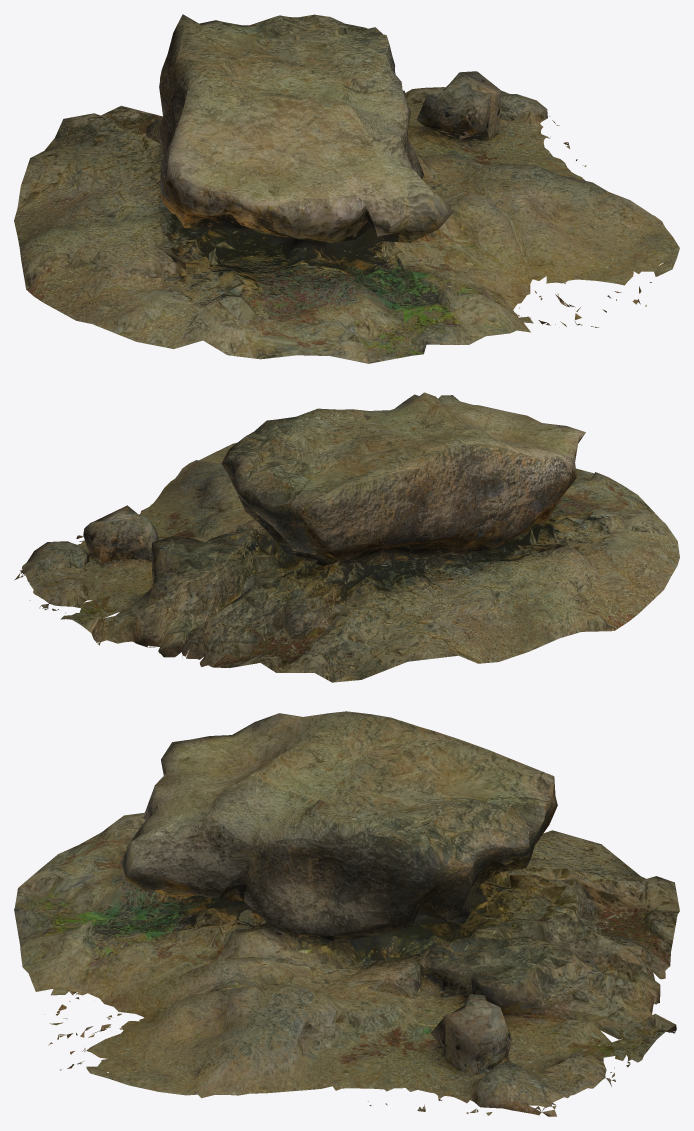
File: scan_rock_coast.glb
The picture shows the model from 3 angles, top to bottom: view 1: azimuth 30°, elevation 25°; view 2: azimuth 150°, elevation 25°; view 3: azimuth 270°, elevation 25°; orthographic projection. The views are drawn at different scales.
Parts seen in each view (by area): view 1: scan_rock_coast; view 2: scan_rock_coast; view 3: scan_rock_coast.
Part boxes in pixels (box(x1,y1,x2,y2)): scan_rock_coast: box(14, 14, 679, 363); scan_rock_coast: box(14, 392, 679, 682); scan_rock_coast: box(14, 711, 679, 1116).
Bounding box in the file's own units: 3.98 × 1.3 × 3.75.
Materials: 1 (1 with a texture image).
